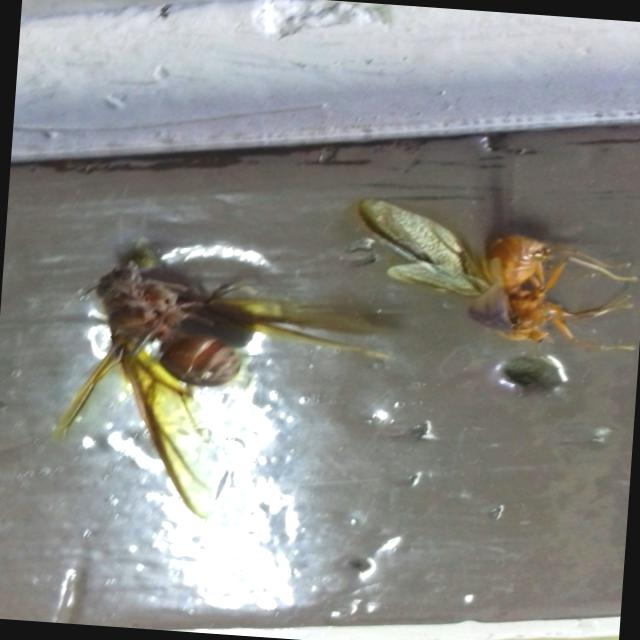Dead-Female-Alate: (49, 253, 397, 532)
Dead-Male-Alate: (341, 194, 640, 375)
